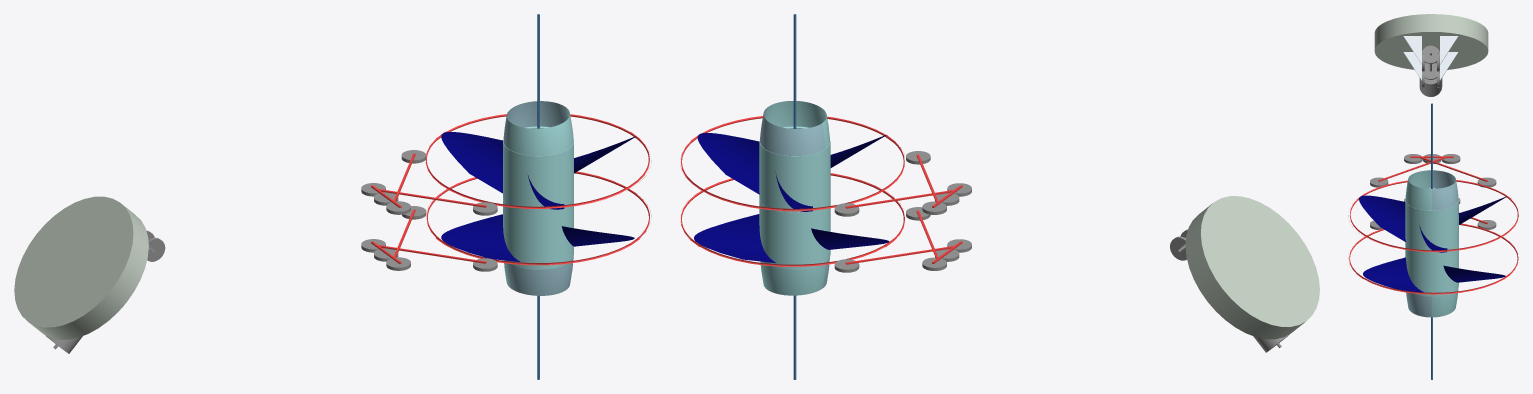
File: Blimpless.gltf
The picture shows the model from 3 angles, left to right: view 1: azimuth 30°, elevation 25°; view 2: azimuth 150°, elevation 25°; view 3: azimuth 270°, elevation 25°; orthographic projection. The views are drawn at different scales.
Parts seen in each view (by area): view 1: Object54, Object13, Object0, Object12, Object2, Object52, Object51, Object53, Object3, Object7; view 2: Object54, Object13, Object0, Object8, Object4, Object53, Object48, Object52, Object2, Object6; view 3: Object54, Object13, Object0, Object11, Object3, Object53, Object52, Object4, Object48, Object51, Object5, Object46 (+15 smaller).
Boxes of the visible parts, <box> form: Object54: <box>14,196,148,339</box>; Object13: <box>503,126,573,213</box>; Object0: <box>503,198,573,269</box>; Object12: <box>441,132,502,193</box>; Object2: <box>441,214,519,261</box>; Object52: <box>508,107,573,155</box>; Object51: <box>508,257,573,295</box>; Object53: <box>503,101,567,148</box>; Object3: <box>561,226,634,246</box>; Object7: <box>436,236,639,265</box>; Object54: <box>1185,196,1319,339</box>; Object13: <box>759,126,830,212</box>; Object0: <box>759,198,830,269</box>; Object8: <box>697,133,759,194</box>; Object4: <box>694,214,775,262</box>; Object53: <box>760,107,825,155</box>; Object48: <box>760,261,825,295</box>; Object52: <box>766,101,829,148</box>; Object2: <box>811,228,889,249</box>; Object6: <box>690,238,893,266</box>; Object54: <box>1374,14,1488,69</box>; Object13: <box>1405,188,1458,253</box>; Object0: <box>1405,243,1458,296</box>; Object11: <box>1359,195,1405,241</box>; Object3: <box>1363,257,1424,292</box>; Object53: <box>1432,170,1458,210</box>; Object52: <box>1405,170,1431,210</box>; Object4: <box>1443,265,1505,282</box>; Object48: <box>1432,288,1458,317</box>; Object51: <box>1406,292,1431,317</box>; Object5: <box>1357,273,1510,294</box>; Object46: <box>1419,67,1442,96</box>.
Size of the model in its own units: 5.61 by 3.21 by 1.8.
